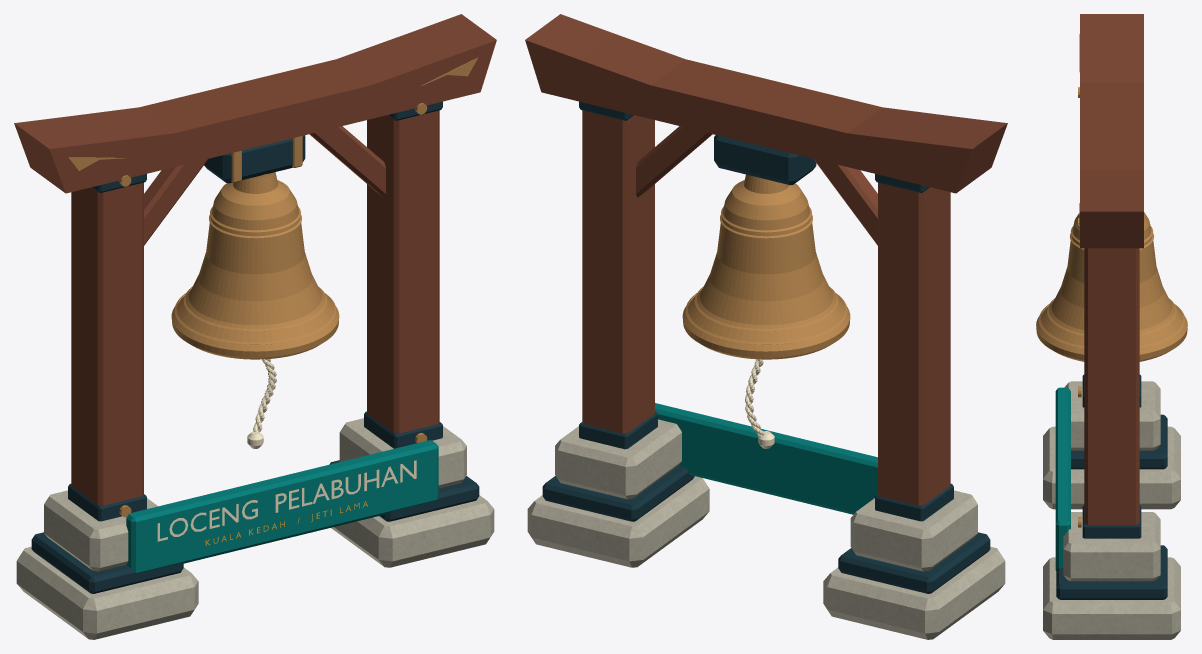
3 renders of one model, left to right at view 1: azimuth 30°, elevation 25°; view 2: azimuth 150°, elevation 25°; view 3: azimuth 270°, elevation 25°, orthographic. The views are drawn at different scales.
Parts seen in each view (by area): view 1: Chengal uprights, Carved lifting beam, Cast bronze bell, Memorial panel, Pier stones, Pier necks, Knee braces, Rebated plinths, Forged straps, Quayside inscription, Bell headstock, Turned mouldings (+1 smaller); view 2: Chengal uprights, Carved lifting beam, Cast bronze bell, Pier stones, Pier necks, Memorial panel, Rebated plinths, Knee braces, Forged straps, Bell headstock, Turned mouldings; view 3: Chengal uprights, Carved lifting beam, Pier stones, Pier necks, Cast bronze bell, Rebated plinths, Memorial panel, Forged straps, Turned mouldings.
Boxes of the visible parts, x1,y1,x2,y2 form: Chengal uprights: (71,110,439,505); Carved lifting beam: (14,14,496,193); Cast bronze bell: (171,180,339,359); Memorial panel: (126,440,438,573); Pier stones: (16,495,494,639); Pier necks: (44,418,466,571); Knee braces: (144,126,385,245); Rebated plinths: (31,460,479,593); Forged straps: (68,101,442,521); Quayside inscription: (157,460,416,545); Bell headstock: (204,135,305,183); Turned mouldings: (174,206,336,344); Chengal uprights: (582,110,950,505); Carved lifting beam: (525,14,1007,193); Cast bronze bell: (682,180,850,359); Pier stones: (527,476,1005,639); Pier necks: (555,419,977,571); Memorial panel: (655,403,877,514); Rebated plinths: (542,465,990,593); Knee braces: (636,126,877,245); Forged straps: (579,101,953,521); Bell headstock: (714,135,816,185); Turned mouldings: (685,206,847,344); Chengal uprights: (1084,248,1139,524); Carved lifting beam: (1080,14,1143,248); Pier stones: (1043,426,1180,639); Pier necks: (1063,381,1160,581); Cast bronze bell: (1036,212,1187,361); Rebated plinths: (1056,414,1167,599); Memorial panel: (1055,387,1070,570); Forged straps: (1082,374,1141,538); Turned mouldings: (1038,226,1185,348).
Size of the model in its own units: 2.36 by 2.45 by 0.766.
Materials: 8 (1 with a texture image).
